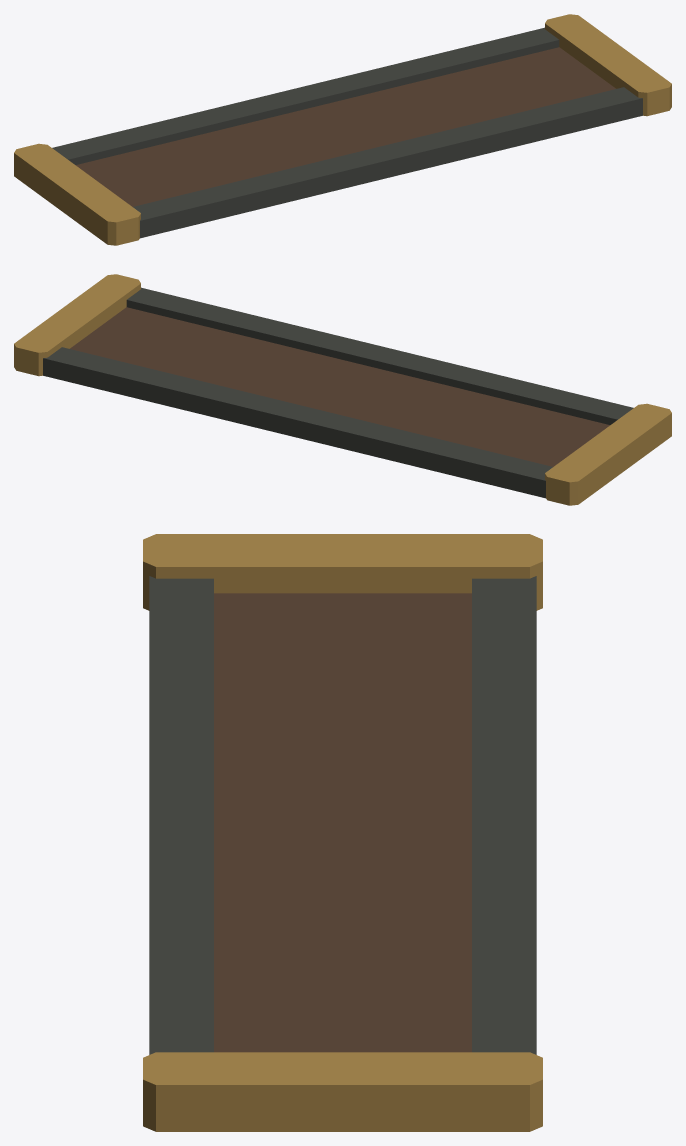
Rendered from b1_grate.glb.
3 renders of one model, top to bottom at view 1: azimuth 30°, elevation 25°; view 2: azimuth 150°, elevation 25°; view 3: azimuth 270°, elevation 25°, orthographic. The views are drawn at different scales.
Parts seen in each view (by area): view 1: b1_grate; view 2: b1_grate; view 3: b1_grate.
Part boxes in pixels (x1,y1,x2,y2): b1_grate: (14,14,671,245); b1_grate: (14,274,671,505); b1_grate: (143,534,542,1131).
Bounding box in the file's own units: 2.02 × 0.08 × 0.62.
